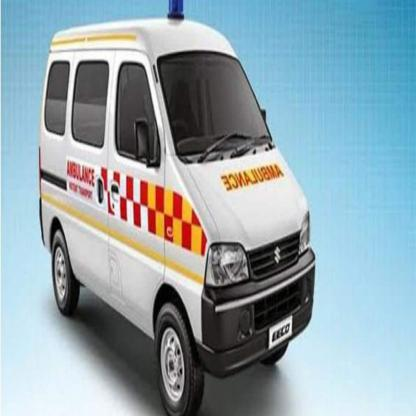Ambulance - v1 Ambulance last generate: (41, 20, 316, 415)
